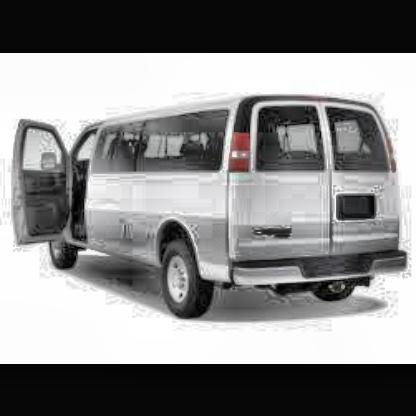GMC Savana Van 2012: (12, 97, 408, 319)
